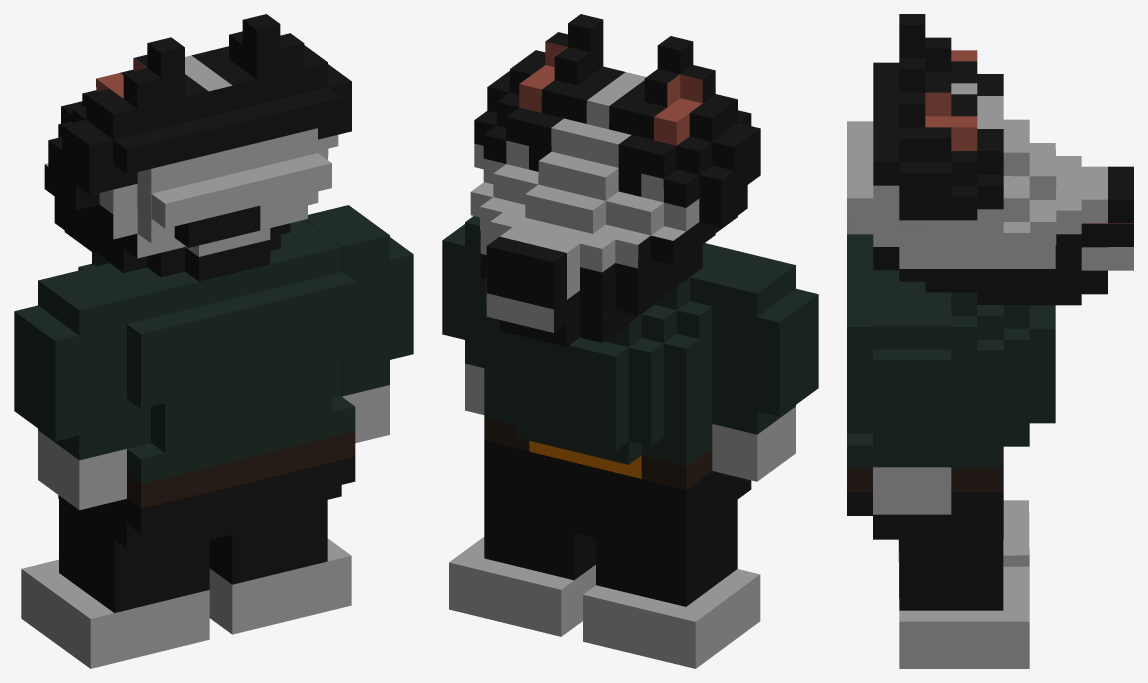
The model's file is gotowy model psa.fbx.
The picture shows the model from 3 angles, left to right: view 1: azimuth 30°, elevation 25°; view 2: azimuth 150°, elevation 25°; view 3: azimuth 270°, elevation 25°; orthographic projection. The views are drawn at different scales.
Parts seen in each view (by area): view 1: tłów, głowa, ręka prawa, noga prawa, noga lewa, ręka lewa; view 2: głowa, tłów, noga prawa, ręka prawa, noga lewa, ręka lewa; view 3: głowa, tłów, ręka lewa, noga lewa, noga prawa.
Boxes of the visible parts, box(x1,y1,x2,y2) form: tłów: box(58, 220, 355, 548); głowa: box(44, 14, 351, 281); ręka prawa: box(14, 269, 126, 510); noga prawa: box(21, 499, 209, 668); noga lewa: box(209, 500, 351, 634); ręka lewa: box(305, 205, 413, 443); głowa: box(470, 14, 760, 346); tłów: box(484, 243, 751, 538); noga prawa: box(583, 500, 760, 668); ręka prawa: box(712, 254, 818, 481); noga lewa: box(449, 487, 595, 636); ręka lewa: box(442, 216, 486, 414); głowa: box(847, 14, 1133, 305); tłów: box(847, 234, 1055, 539); ręka lewa: box(873, 303, 951, 514); noga lewa: box(899, 539, 1029, 668); noga prawa: box(898, 500, 1029, 598).
Size of the model in its own units: 15.01 by 24 by 11.
